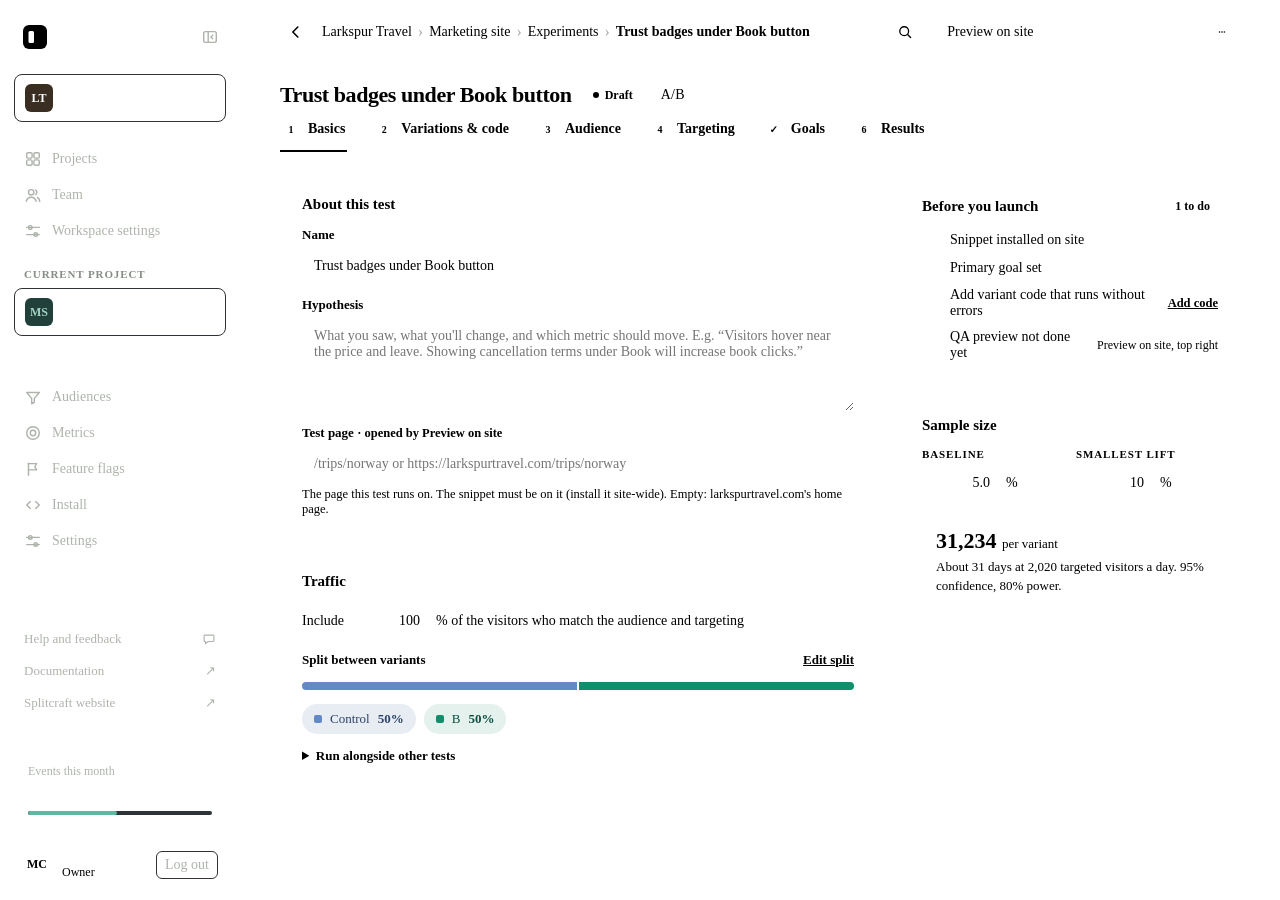
Test case: basics › plans the sample size and saves it
Expected: the navigation bar named "Experiment steps" is shown, [280,108,925,152]
Replace the text in the field labelled "Baseline" with "5". click: (960, 483)
box: [922,466,998,500]
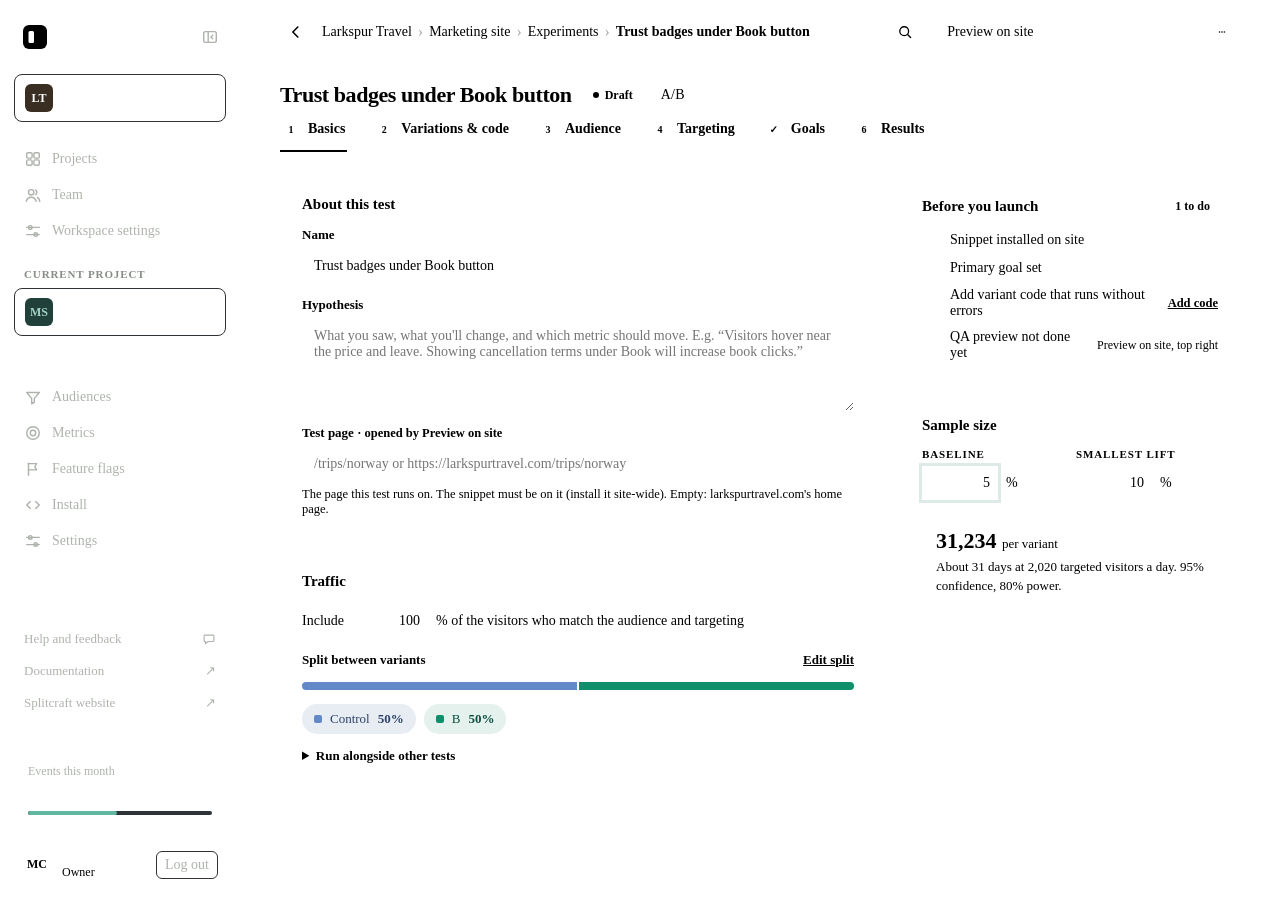
Replace the text in the field labelled "Smallest lift" with "15". click: (1114, 483)
box: [1076,466,1152,500]
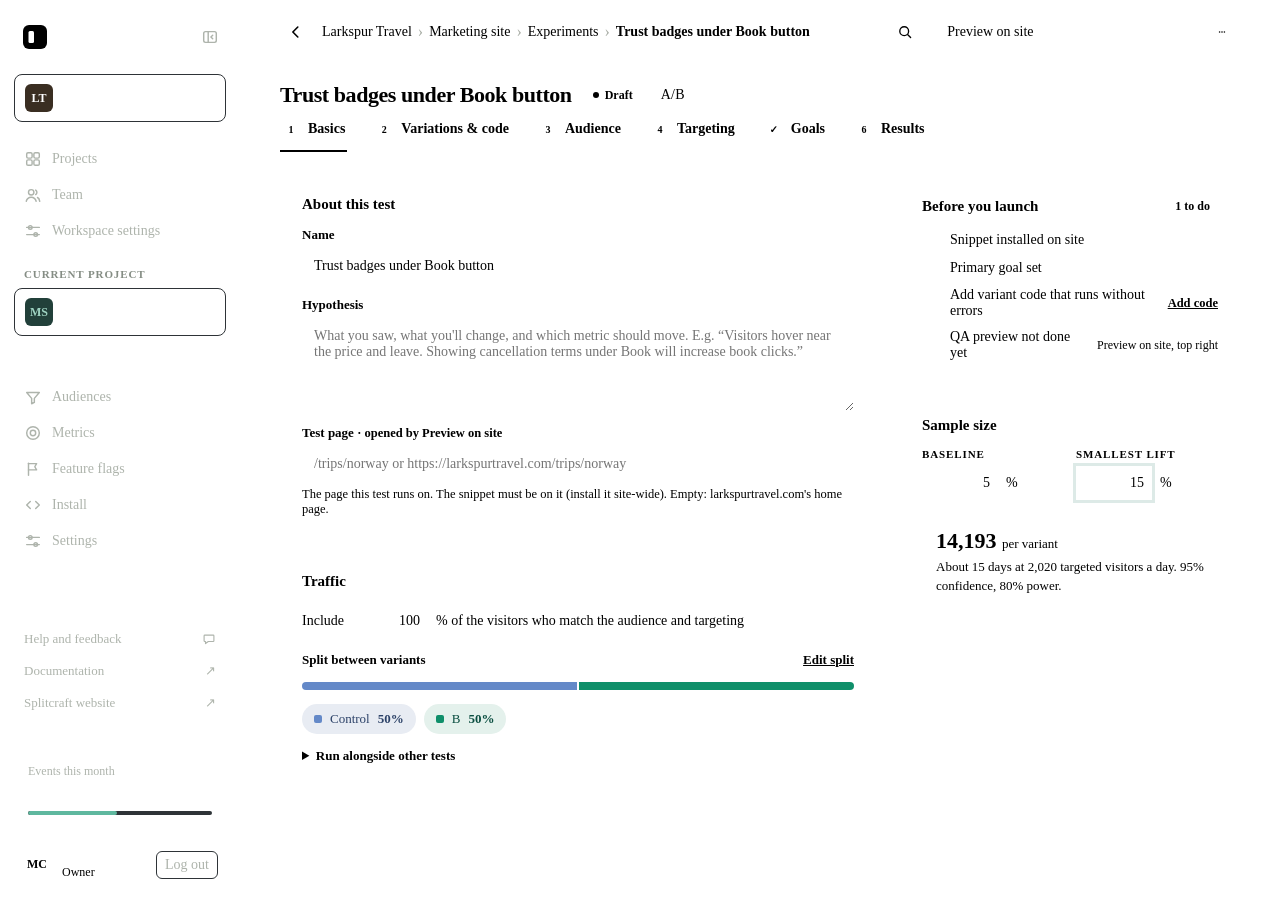
Expected: the text "14,193" is shown, [936,528,996,553]
Expected: the text "About 15 days at 2,020 targeted visitors a day." is shown, [936,559,1177,574]
